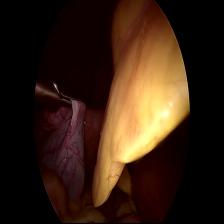Grasper: (52, 78, 88, 124)
